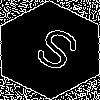S: (25, 25, 84, 82)
